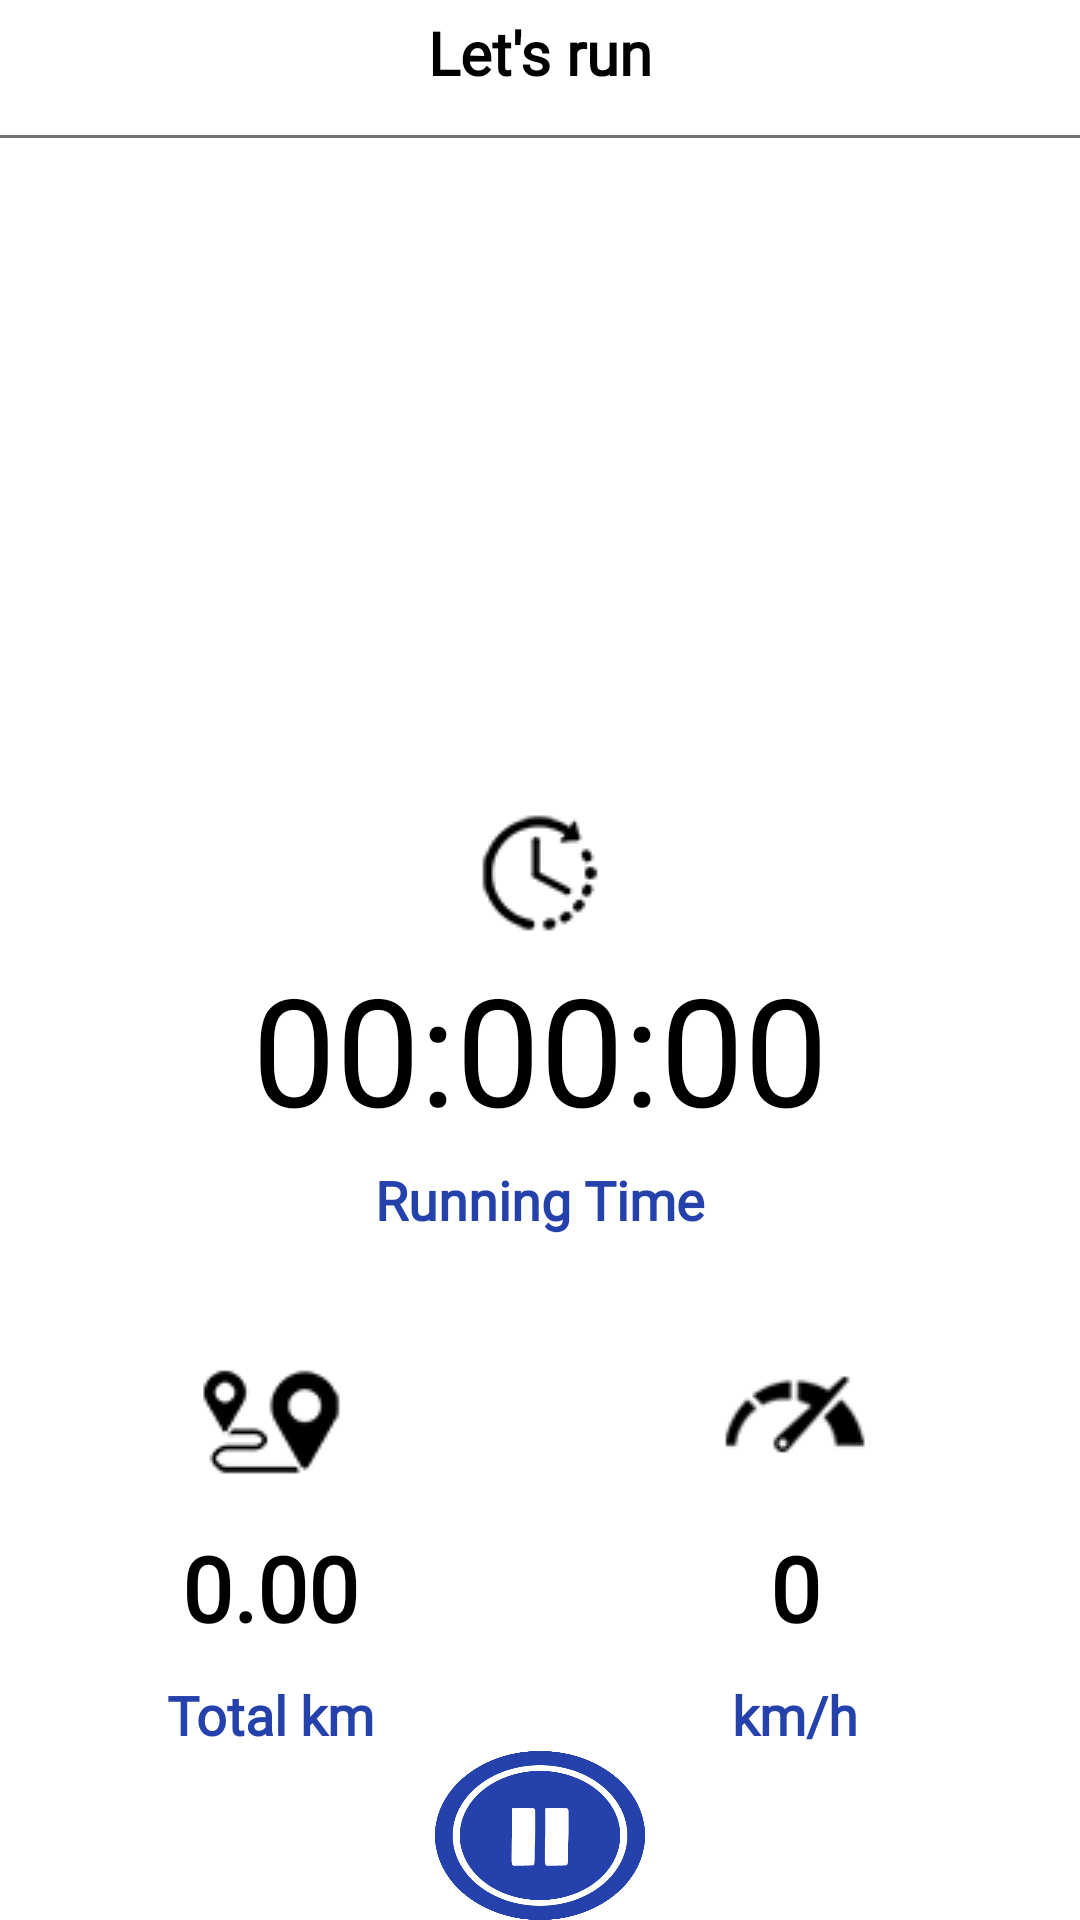

Icons on this 1080px×1920px Android screen, each with the point to tap as (x,y):
distancegreen: (271,1422)
speed: (795,1414)
timegreen: (540,873)
